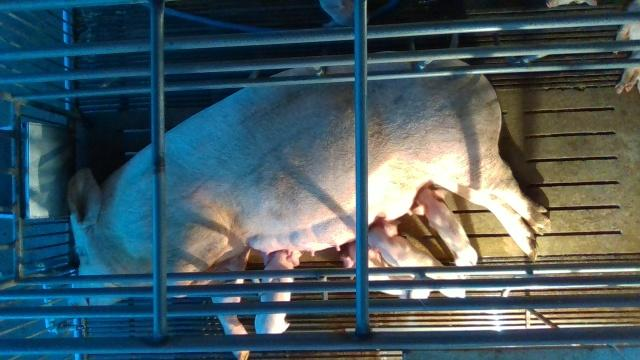piglet: (368, 223, 467, 298), (413, 185, 479, 268), (253, 250, 302, 334), (341, 240, 410, 295), (614, 3, 640, 96)
sow-sleep-lactate: (68, 59, 552, 360)
